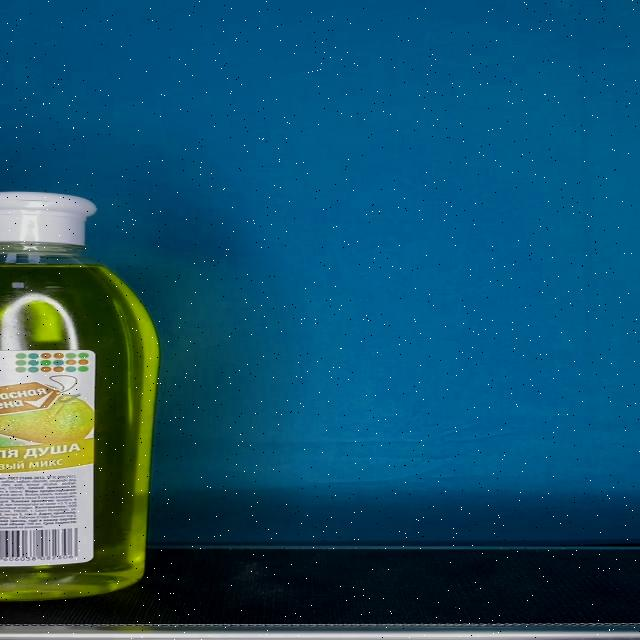Bottle: (0, 192, 158, 602)
